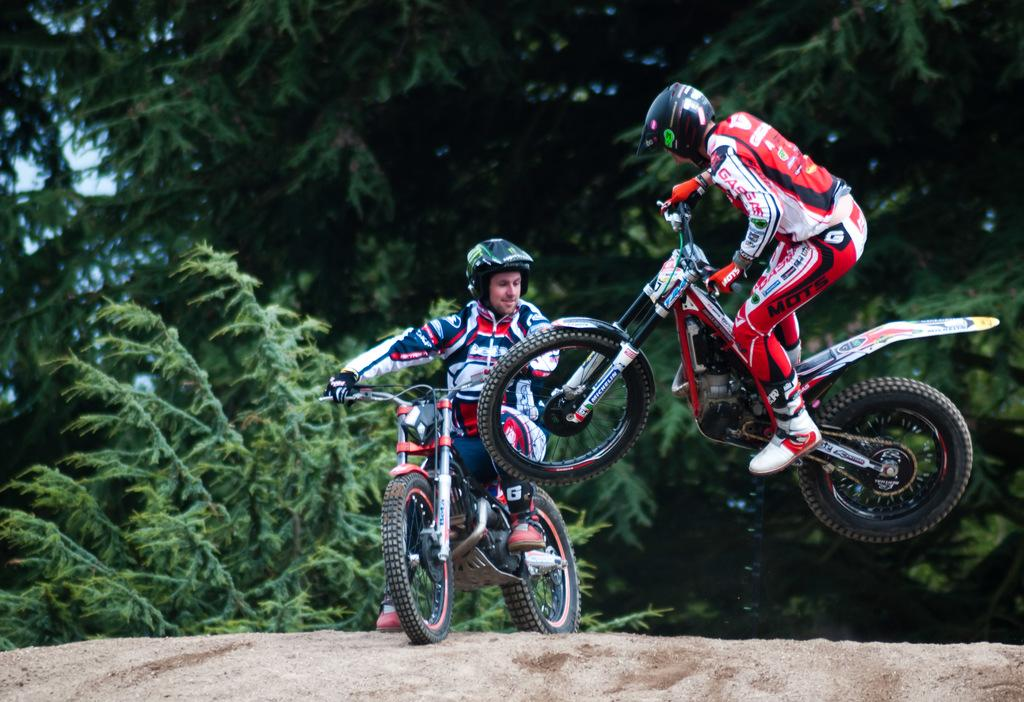helmet: (636, 82, 716, 167), (466, 238, 534, 313)
